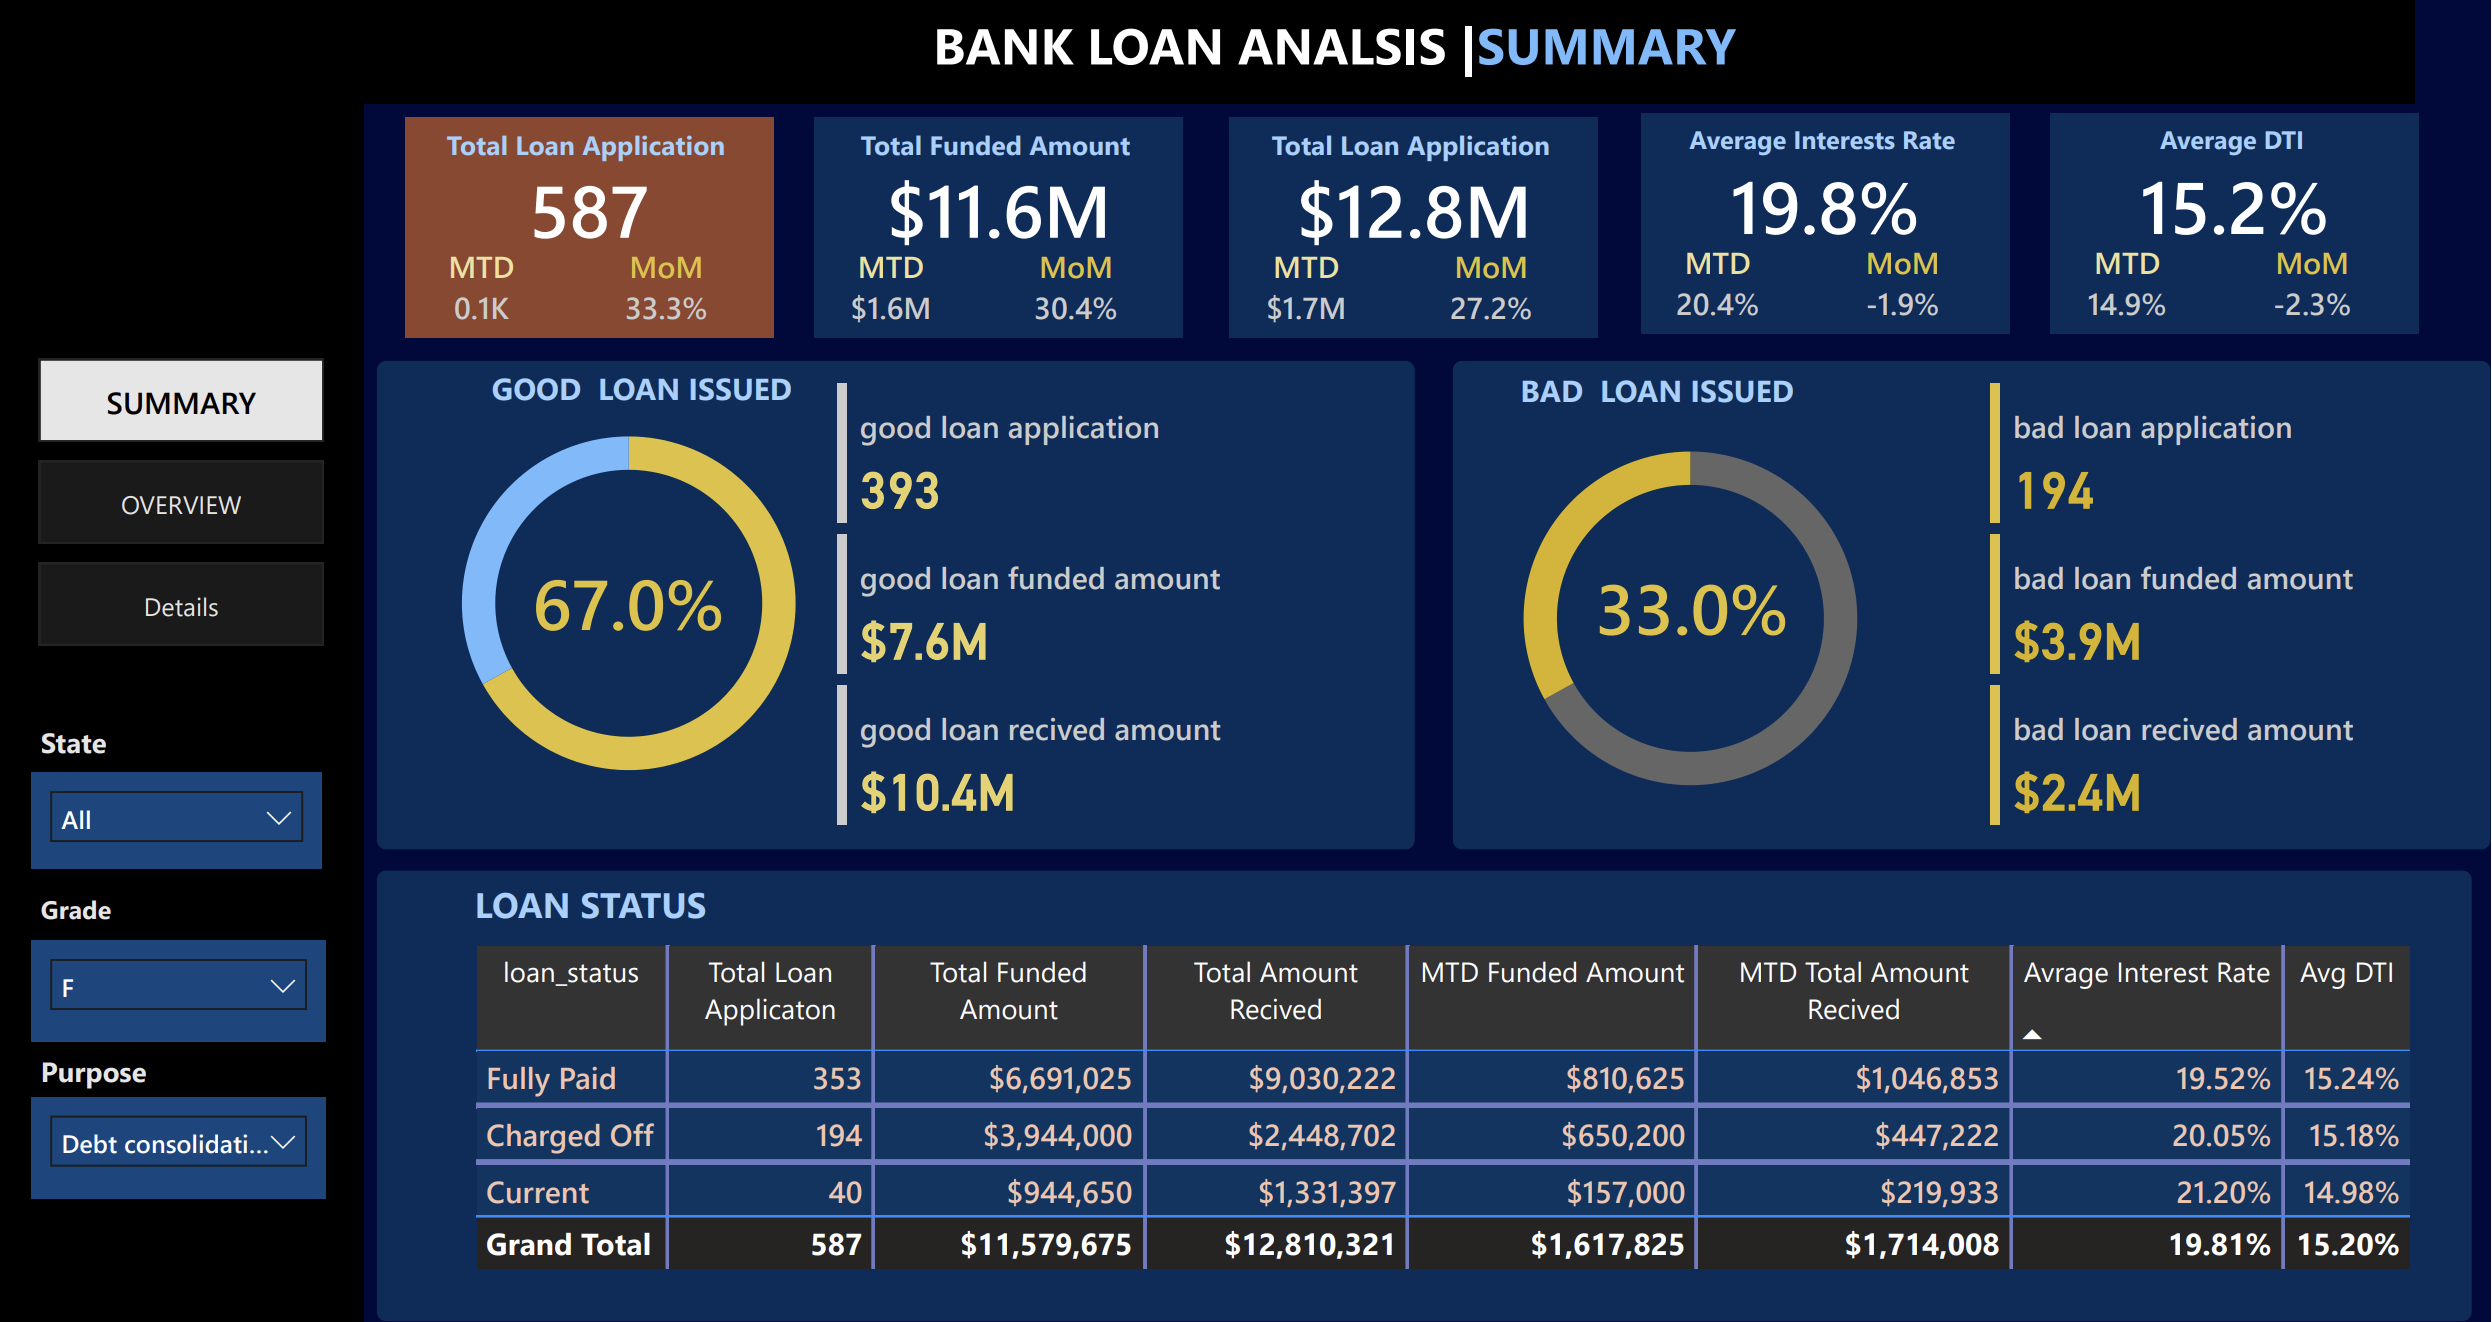

What the dashboard file says about the page in this screenshot:
{"tool":"powerbi","page":{"name":"SUMMARY","canvas":[1320,700],"ordinal":0},"visuals":[{"type":"shape","box":[0,0,1280,55],"z":0},{"type":"shape","box":[0,0,192.6,719.7],"z":1000},{"type":"shape","box":[199.7,190.6,550.2,259.6],"z":2000},{"type":"textbox","box":[468.4,0,478.6,65.1],"z":3000},{"type":"shape","box":[870.1,60.4,195,117],"z":3000,"group":"g3"},{"type":"shape","box":[1086.5,60.4,195,117],"z":3000,"group":"g4"},{"type":"shape","box":[431.5,61.8,195,117],"z":3000,"group":"g1"},{"type":"shape","box":[652.2,61.8,195,117],"z":3000,"group":"g2"},{"type":"shape","box":[215.1,61.8,195,117],"z":4000},{"type":"card","fields":{"Values":["financial_loan.Avrage Interest Rate"]},"box":[870.1,79.2,195.2,59.3],"z":4000,"group":"g3"},{"type":"card","fields":{"Values":["financial_loan.Avg DTI"]},"box":[1086.5,79.2,195.2,59.3],"z":4000,"group":"g4"},{"type":"card","fields":{"Values":["financial_loan.totala loan amount"]},"box":[431.5,80.6,195.2,59.3],"z":4000,"group":"g1"},{"type":"card","fields":{"Values":["financial_loan.Total Amount Recived"]},"box":[652.2,80.6,195.2,59.3],"z":4000,"group":"g2"},{"type":"textbox","box":[877.3,60.4,177.8,36.1],"z":5000,"group":"g3"},{"type":"textbox","box":[1093.7,60.4,177.8,36.1],"z":5000,"group":"g4"},{"type":"textbox","box":[438.7,61.8,177.8,36.1],"z":5000,"group":"g1"},{"type":"textbox","box":[659.4,61.8,177.8,36.1],"z":5000,"group":"g2"},{"type":"card","fields":{"Values":["financial_loan.Total Loan Applicaton"]},"box":[215.1,80.6,195.2,59.3],"z":5000},{"type":"group","id":"g1","title":"Group 1","box":[431.5,61.8,195.4,116.7],"z":6000},{"type":"card","title":"MTD","fields":{"Values":["financial_loan.MTD Average Interest Rate"]},"box":[870.1,128.4,81,49.2],"z":6000,"group":"g3"},{"type":"card","title":"MTD","fields":{"Values":["financial_loan.MTD Avg DTI"]},"box":[1086.5,128.4,81,49.2],"z":6000,"group":"g4"},{"type":"card","title":"MTD","fields":{"Values":["financial_loan.MTD Funded Amount"]},"box":[431.5,129.8,81,49.2],"z":6000,"group":"g1"},{"type":"card","title":"MTD","fields":{"Values":["financial_loan.MTD Total Amount Recived"]},"box":[652.2,129.8,81,49.2],"z":6000,"group":"g2"},{"type":"textbox","box":[222.3,61.8,177.8,36.1],"z":7000},{"type":"card","title":"MoM","fields":{"Values":["financial_loan.MOM AVg int rate"]},"box":[968.4,128.4,81,49.2],"z":7000,"group":"g3"},{"type":"card","title":"MoM","fields":{"Values":["financial_loan.MOM Avg DTI"]},"box":[1184.8,128.4,81,49.2],"z":7000,"group":"g4"},{"type":"card","title":"MoM","fields":{"Values":["financial_loan.MoM Total Funded Amount"]},"box":[529.8,129.8,81,49.2],"z":7000,"group":"g1"},{"type":"card","title":"MoM","fields":{"Values":["financial_loan.MOM Total Amount Recived"]},"box":[750.5,129.8,81,49.2],"z":7000,"group":"g2"},{"type":"card","fields":{"Values":["financial_loan.Good Loan Percentage"]},"box":[255.9,292.2,155.6,53.8],"z":8000},{"type":"card","title":"MTD","fields":{"Values":["financial_loan.MTD Loan Application"]},"box":[215.1,129.8,81,49.2],"z":9000},{"type":"group","id":"g2","title":"Group 1","box":[652.2,61.8,195.4,116.7],"z":10000},{"type":"card","title":"MoM","fields":{"Values":["financial_loan.MOM Loan Application"]},"box":[313.4,129.8,81,49.2],"z":11000},{"type":"group","id":"g3","title":"Group 1","box":[870.1,60.4,195.4,118.1],"z":12000},{"type":"group","id":"g4","title":"Group 1","box":[1086.5,60.4,195.4,118.1],"z":13000},{"type":"shape","box":[769.8,190.6,550.2,259.6],"z":14000},{"type":"donutChart","fields":{"Category":["financial_loan.Good v/s Bad Loan"],"Y":["financial_loan.Total Loan Applicaton"]},"box":[770.3,212.2,251.6,230.5],"z":15000},{"type":"textbox","box":[255.9,190.4,207.9,69.8],"z":16000},{"type":"cardVisual","fields":{"Data":["financial_loan.good loan application","financial_loan.good loan funded amount","financial_loan.good loan recived amount"]},"box":[439,197.7,247.1,244.2],"z":17000},{"type":"donutChart","fields":{"Category":["financial_loan.Good v/s Bad Loan"],"Y":["financial_loan.Total Loan Applicaton"]},"box":[207.9,203.5,251.5,231.1],"z":18000},{"type":"textbox","box":[801.2,191.2,208,68.9],"z":19000},{"type":"card","fields":{"Values":["financial_loan.Bad Loan Percentage"]},"box":[818.9,294.1,156.1,54.5],"z":20000},{"type":"cardVisual","fields":{"Data":["financial_loan.bad loan application","financial_loan.bad loan funded amount","financial_loan.bad loan recived amount"]},"box":[1050,198.2,247.4,244.6],"z":21000},{"type":"shape","box":[199.6,461,1110.4,239],"z":22000},{"type":"tableEx","fields":{"Values":["financial_loan.loan_status","financial_loan.Total Loan Applicaton","financial_loan.Total Funded Amount","financial_loan.Total Amount Recived","financial_loan.MTD Funded Amount","financial_loan.MTD Total Amount Recived","financial_loan.Avrage Interest Rate","financial_loan.Avg DTI"]},"box":[247.4,496.2,1044.4,191.2],"z":23000},{"type":"textbox","box":[247.4,461,192.6,45],"z":24000},{"type":"slicer","fields":{"Values":["financial_loan.address_state"]},"box":[16.9,409,154.6,50.6],"z":25000},{"type":"textbox","box":[16.9,378.1,64.7,40.8],"z":26000},{"type":"slicer","fields":{"Values":["financial_loan.grade"]},"box":[16.9,497.6,156,54.8],"z":27000},{"type":"slicer","fields":{"Values":["financial_loan.purpose"]},"box":[16.9,580.5,156,54.8],"z":28000},{"type":"textbox","box":[16.9,468.1,74.5,38],"z":29000},{"type":"textbox","box":[16.9,552.4,92.8,39.4],"z":30000},{"type":"pageNavigator","box":[21.1,189.8,151.8,153.2],"z":30001}]}

Visuals, with their boxes in screenshot pixels (x1, y1, x2, y2), scaled from the page's 1320x700 canvas onto the 2492x1322 screenshot:
shape: box(0, 0, 2416, 104)
shape: box(0, 0, 364, 1321)
shape: box(377, 360, 1416, 850)
textbox: box(884, 0, 1788, 123)
shape: box(1643, 114, 2011, 335)
shape: box(2051, 114, 2419, 335)
shape: box(815, 117, 1183, 338)
shape: box(1231, 117, 1599, 338)
shape: box(406, 117, 774, 338)
card - financial_loan.Avrage Interest Rate: box(1643, 150, 2011, 262)
card - financial_loan.Avg DTI: box(2051, 150, 2420, 262)
card - financial_loan.totala loan amount: box(815, 152, 1183, 264)
card - financial_loan.Total Amount Recived: box(1231, 152, 1600, 264)
textbox: box(1656, 114, 1992, 182)
textbox: box(2065, 114, 2400, 182)
textbox: box(828, 117, 1164, 185)
textbox: box(1245, 117, 1581, 185)
card - financial_loan.Total Loan Applicaton: box(406, 152, 775, 264)
"Group 1" group: box(815, 117, 1184, 337)
"MTD" card: box(1643, 242, 1796, 335)
"MTD" card: box(2051, 242, 2204, 335)
"MTD" card: box(815, 245, 968, 338)
"MTD" card: box(1231, 245, 1384, 338)
textbox: box(420, 117, 755, 185)
"MoM" card: box(1828, 242, 1981, 335)
"MoM" card: box(2237, 242, 2390, 335)
"MoM" card: box(1000, 245, 1153, 338)
"MoM" card: box(1417, 245, 1570, 338)
card - financial_loan.Good Loan Percentage: box(483, 552, 777, 653)
"MTD" card: box(406, 245, 559, 338)
"Group 1" group: box(1231, 117, 1600, 337)
"MoM" card: box(592, 245, 745, 338)
"Group 1" group: box(1643, 114, 2012, 337)
"Group 1" group: box(2051, 114, 2420, 337)
shape: box(1453, 360, 2491, 850)
donutChart - financial_loan.Good v/s Bad Loan x financial_loan.Total Loan Applicaton: box(1454, 401, 1929, 836)
textbox: box(483, 360, 876, 491)
cardVisual - financial_loan.good loan application x financial_loan.good loan funded amount: box(829, 373, 1295, 835)
donutChart - financial_loan.Good v/s Bad Loan x financial_loan.Total Loan Applicaton: box(392, 384, 867, 821)
textbox: box(1513, 361, 1905, 491)
card - financial_loan.Bad Loan Percentage: box(1546, 555, 1841, 658)
cardVisual - financial_loan.bad loan application x financial_loan.bad loan funded amount: box(1982, 374, 2449, 836)
shape: box(377, 871, 2473, 1321)
tableEx - financial_loan.loan_status x financial_loan.Total Loan Applicaton: box(467, 937, 2439, 1298)
textbox: box(467, 871, 831, 956)
slicer - financial_loan.address_state: box(32, 772, 324, 868)
textbox: box(32, 714, 154, 791)
slicer - financial_loan.grade: box(32, 940, 326, 1043)
slicer - financial_loan.purpose: box(32, 1096, 326, 1200)
textbox: box(32, 884, 173, 956)
textbox: box(32, 1043, 207, 1118)
pageNavigator: box(40, 358, 326, 648)
